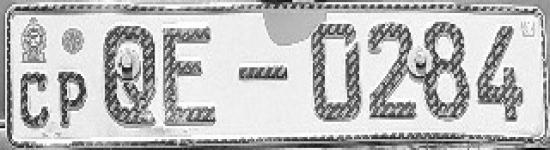-: (237, 65, 290, 81)
0: (309, 18, 362, 125)
2: (364, 17, 420, 122)
4: (475, 18, 527, 125)
8: (424, 15, 472, 124)
C: (17, 65, 50, 133)
E: (159, 18, 220, 130)
P: (53, 66, 94, 132)
Q: (97, 20, 158, 129)
